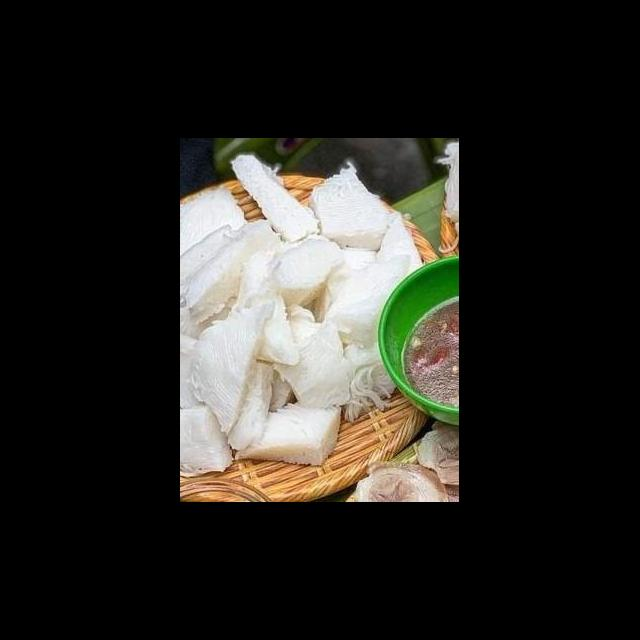bun: (182, 149, 432, 482)
thit heo: (350, 418, 460, 502)
